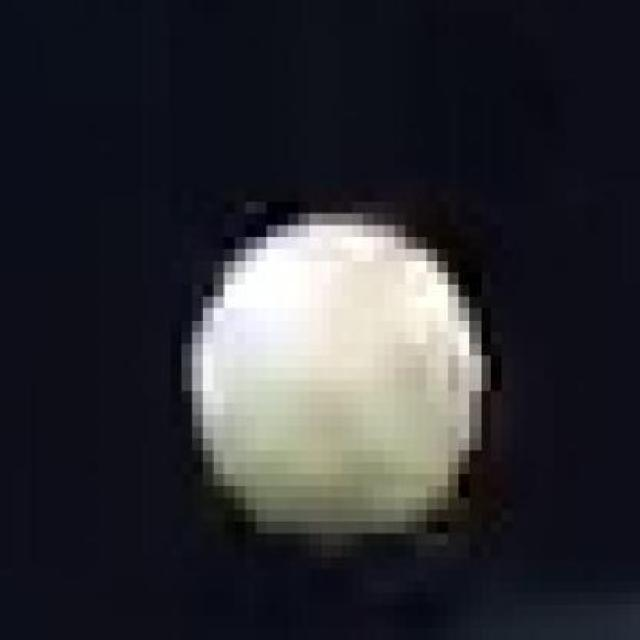Cricket ball: (180, 205, 494, 546)
